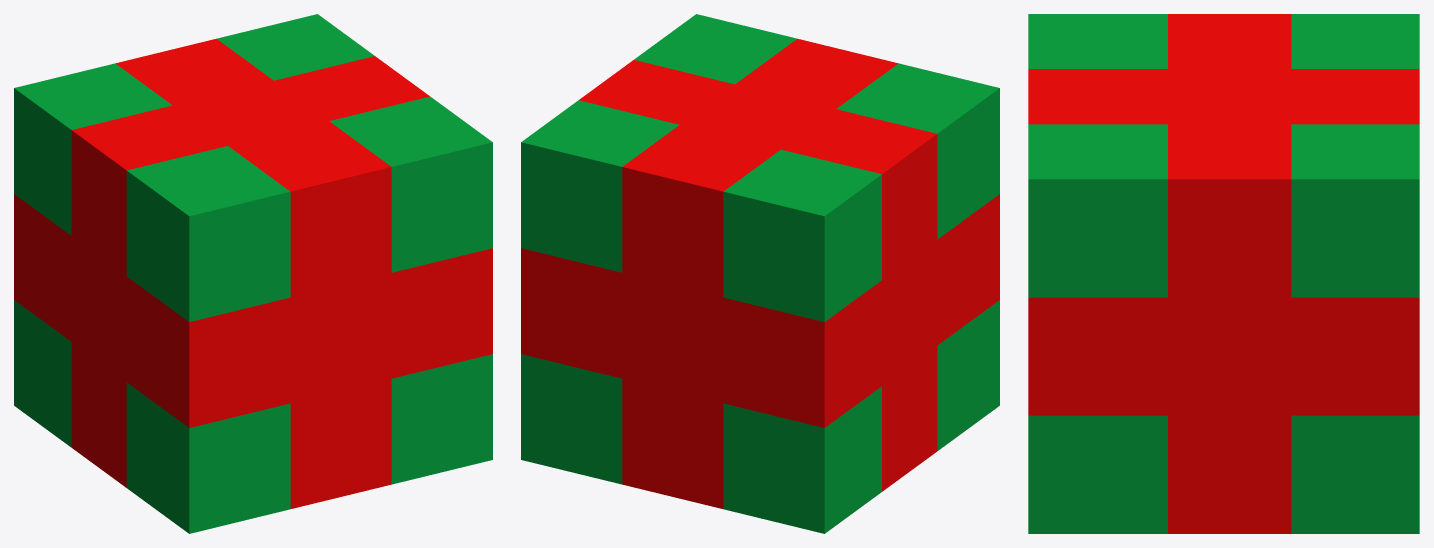
The model's file is Gift.fbx.
3 renders of one model, left to right at view 1: azimuth 30°, elevation 25°; view 2: azimuth 150°, elevation 25°; view 3: azimuth 270°, elevation 25°, orthographic. The views are drawn at different scales.
Visible parts, largest first — view 1: Gift; view 2: Gift; view 3: Gift.
Part boxes in pixels (left/top/right/bottom): Gift: left=14, top=14, right=492, bottom=533; Gift: left=521, top=14, right=999, bottom=533; Gift: left=1028, top=14, right=1419, bottom=533.
Size of the model in its own units: 0.79 by 0.79 by 0.7899.
